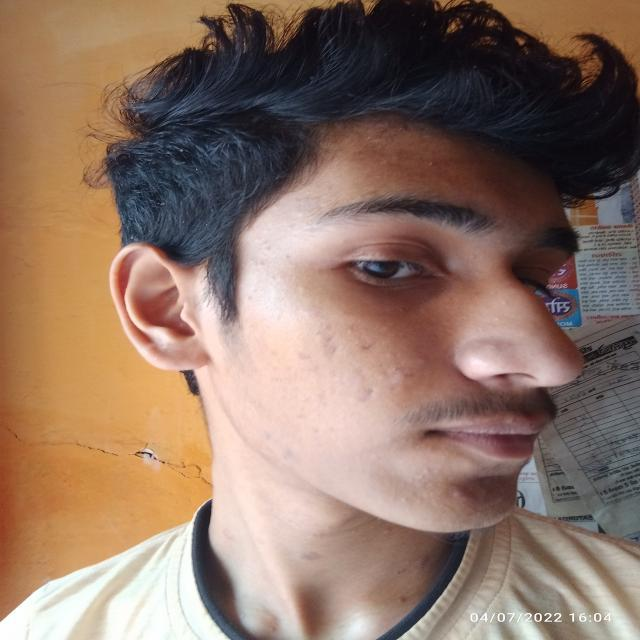Acne: (274, 530, 357, 569), (406, 151, 470, 190), (332, 325, 393, 363), (422, 478, 480, 506)
